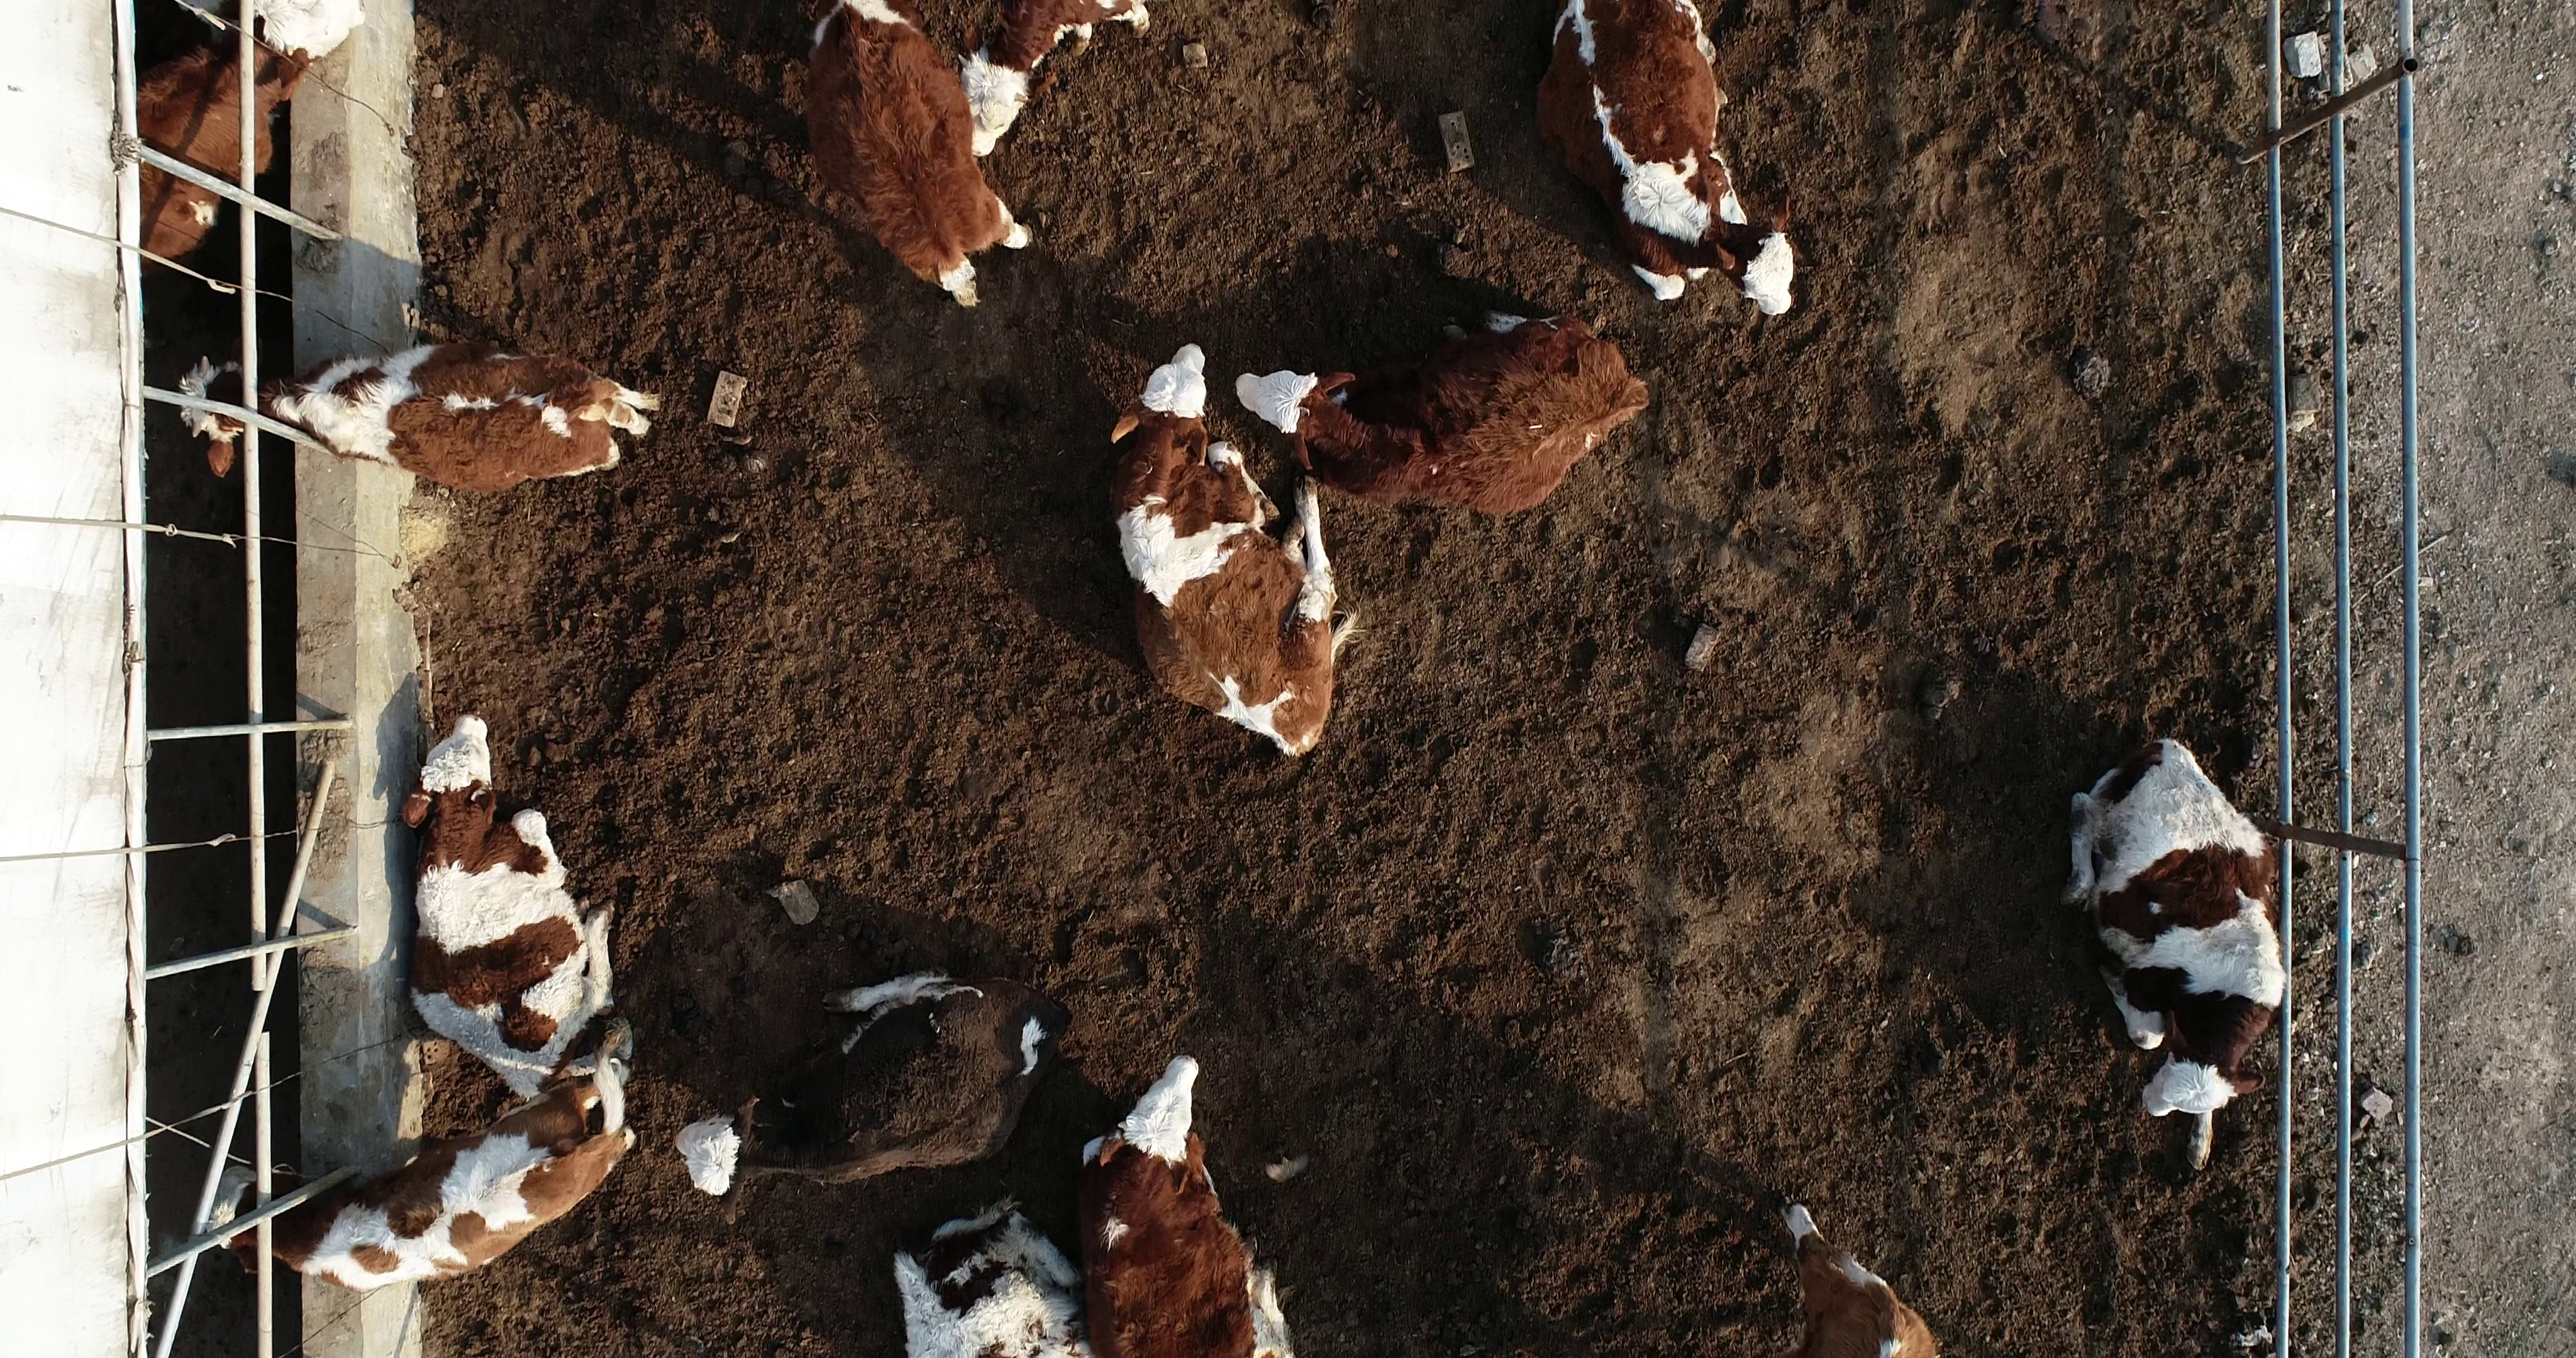cattle: (1102, 336, 1368, 765), (2053, 729, 2293, 1177), (1230, 308, 1656, 521), (169, 339, 670, 496)
